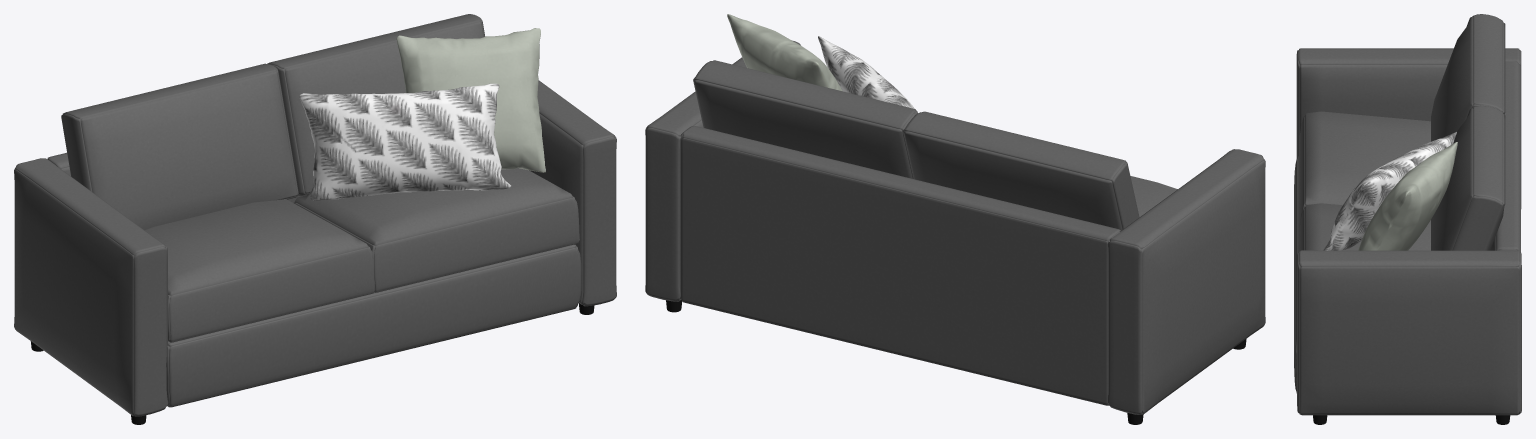
3 renders of one model, left to right at view 1: azimuth 30°, elevation 25°; view 2: azimuth 150°, elevation 25°; view 3: azimuth 270°, elevation 25°, orthographic. The views are drawn at different scales.
Visible parts, largest first — view 1: ____pCube25, ____pCube38, ____pCube7, ____pCube29, ___Mesh, ____pCube28, Pillow1:Mesh, ____pCube10, ____pCube26; view 2: ____pCube14, ____pCube25, ____pCube38, ____pCube26, ____pCube10, Pillow1:Mesh, ___Mesh, ____pCube29; view 3: ____pCube10, ____pCube25, ____pCube29, ____pCube26, ____pCube38, Pillow1:Mesh, ___Mesh, ____pCube14, ____pCube28, ____pCube7.
Boxes of the visible parts, box(x1,y1,x2,y2) form: ____pCube25: box(14, 158, 167, 416); ____pCube38: box(61, 63, 298, 230); ____pCube7: box(166, 244, 581, 407); ____pCube29: box(145, 199, 375, 342); ___Mesh: box(299, 83, 511, 200); ____pCube28: box(294, 168, 579, 292); Pillow1:Mesh: box(396, 28, 545, 172); ____pCube10: box(529, 80, 616, 306); ____pCube26: box(267, 14, 485, 196); ____pCube14: box(680, 126, 1120, 405); ____pCube25: box(1108, 149, 1265, 414); ____pCube38: box(903, 111, 1139, 230); ____pCube26: box(693, 60, 917, 178); ____pCube10: box(645, 40, 800, 301); Pillow1:Mesh: box(727, 14, 842, 91); ___Mesh: box(818, 36, 914, 108); ____pCube29: box(1130, 176, 1177, 217); ____pCube10: box(1297, 250, 1521, 415); ____pCube25: box(1296, 48, 1521, 208); ____pCube29: box(1299, 111, 1430, 235); ____pCube26: box(1431, 105, 1505, 250); ____pCube38: box(1431, 14, 1505, 141); Pillow1:Mesh: box(1358, 142, 1457, 250); ___Mesh: box(1323, 132, 1456, 250); ____pCube14: box(1490, 61, 1520, 251); ____pCube28: box(1299, 203, 1430, 251); ____pCube7: box(1294, 156, 1298, 393).
Size of the model in its own units: 1.24 by 0.596 by 0.5352.
Materials: 1 (1 with a texture image).
